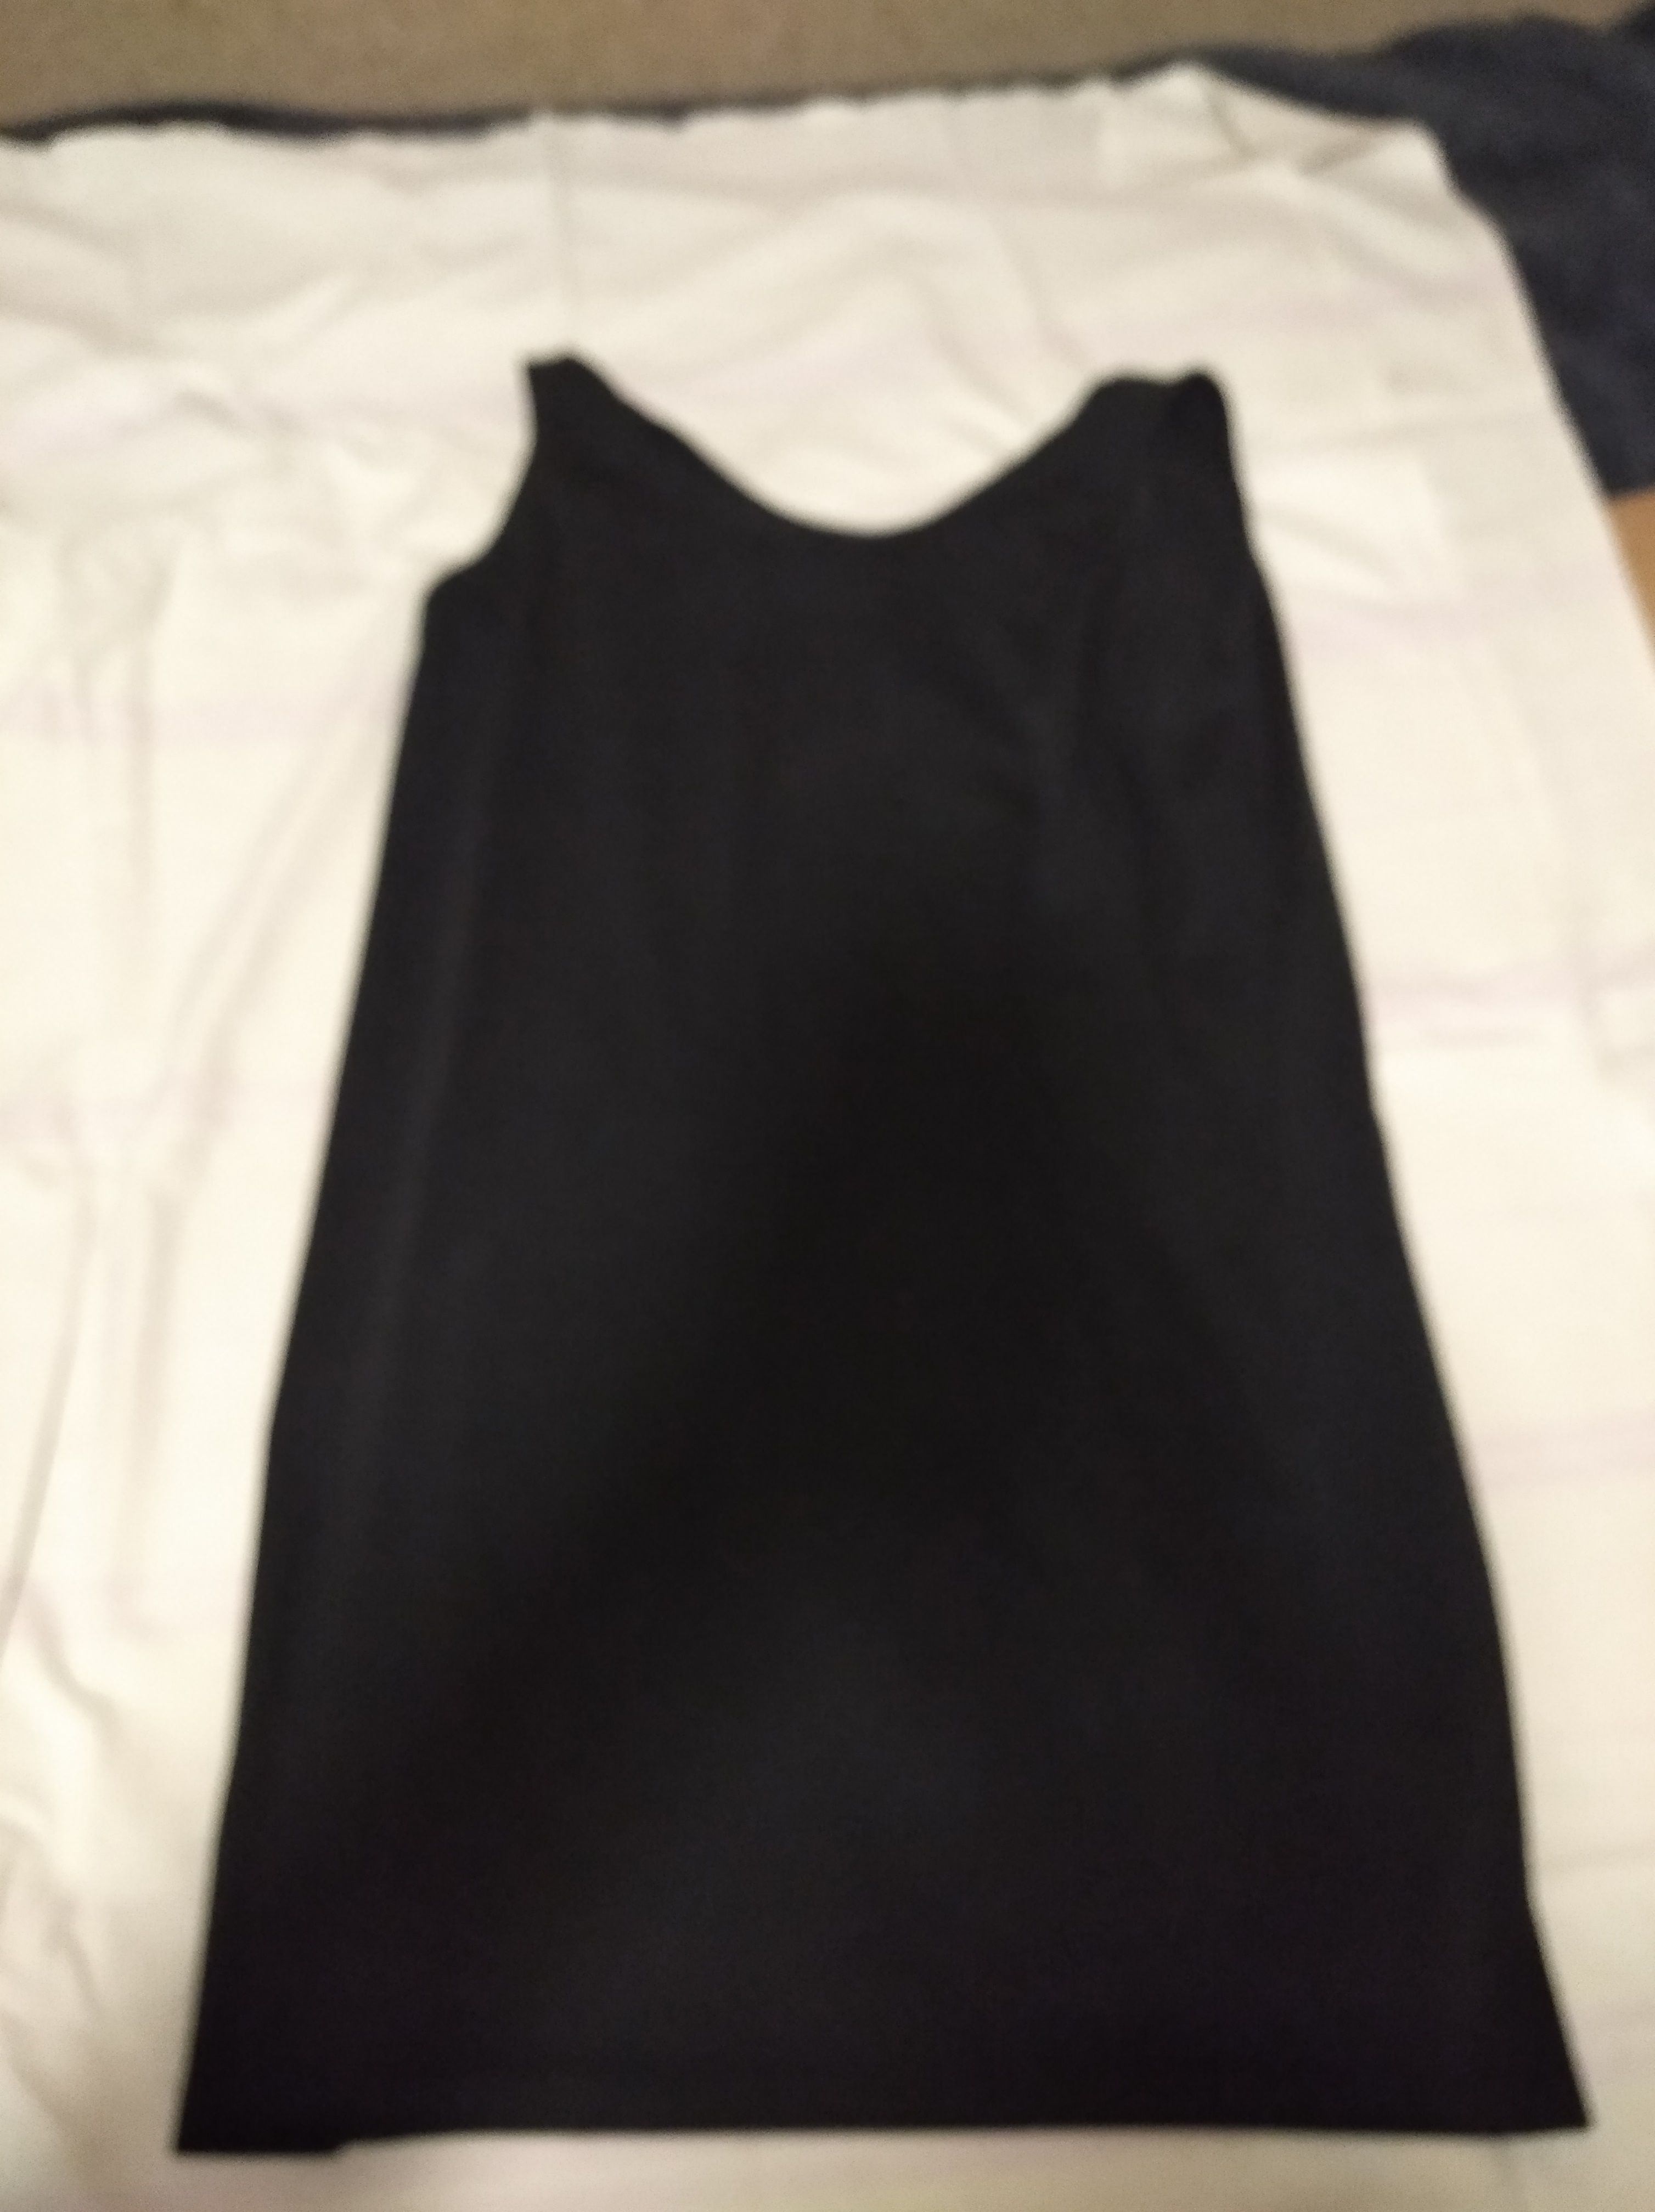clothes: (221, 332, 1598, 2158)
